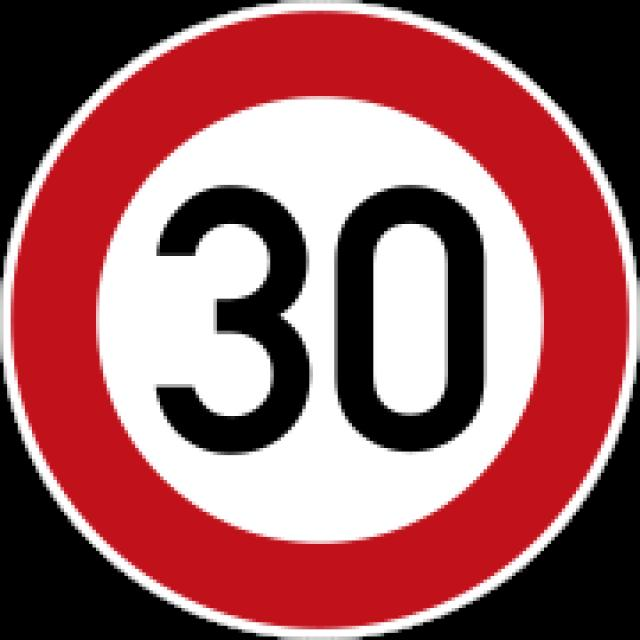Speed Limit -30-: (150, 174, 498, 457)
